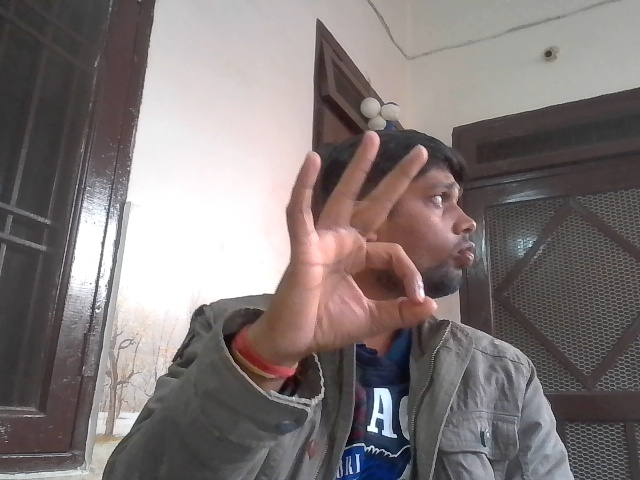Good: (272, 117, 452, 366)
